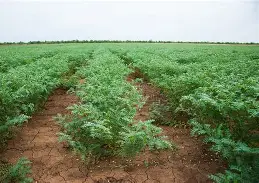crops: (128, 43, 258, 178), (73, 46, 132, 95), (100, 146, 176, 180), (2, 43, 74, 71), (121, 43, 198, 67), (2, 73, 48, 113), (176, 88, 224, 121), (63, 98, 112, 129), (66, 151, 113, 179), (196, 43, 259, 63), (198, 128, 239, 157), (0, 111, 33, 147), (109, 83, 144, 112), (145, 94, 180, 123), (40, 88, 72, 117), (1, 154, 34, 180), (0, 38, 119, 45), (118, 129, 145, 156), (231, 74, 259, 100), (139, 39, 259, 45), (55, 129, 85, 151), (209, 166, 249, 181), (144, 135, 174, 153), (186, 118, 212, 136), (232, 141, 258, 157), (63, 58, 83, 75), (50, 111, 69, 125), (227, 100, 247, 113), (106, 45, 125, 56), (19, 102, 34, 115), (117, 106, 130, 120), (84, 46, 94, 60), (64, 84, 77, 94), (245, 107, 259, 116), (214, 124, 223, 138), (174, 56, 191, 63), (133, 76, 144, 84), (17, 58, 28, 66), (143, 158, 149, 167), (181, 68, 188, 74), (250, 55, 259, 59), (229, 49, 237, 53)
